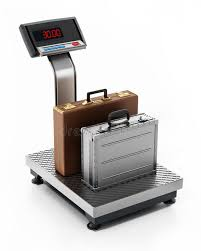Industrial Scale: (18, 16, 184, 232)
